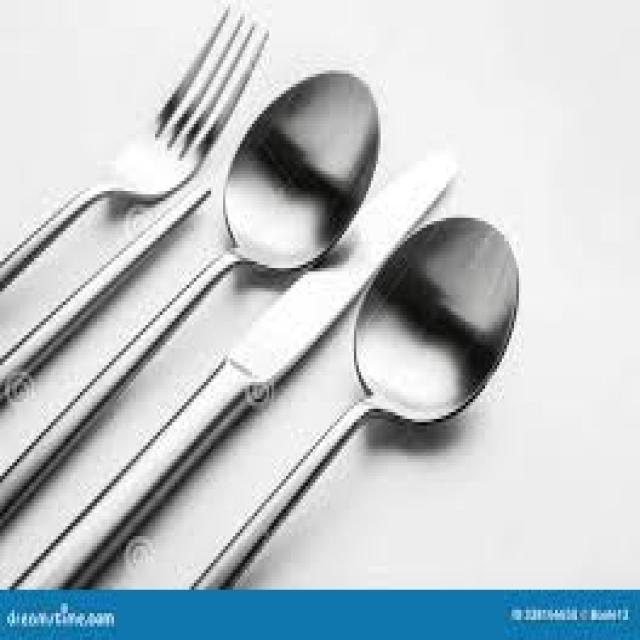Knife: (0, 67, 381, 583)
